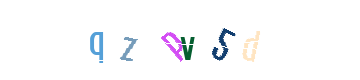5: (181, 0, 261, 80)
D: (198, 0, 278, 80)
P: (140, 0, 220, 80)
Q: (81, 0, 161, 80)
V: (147, 0, 227, 80)
Z: (133, 0, 213, 80)
